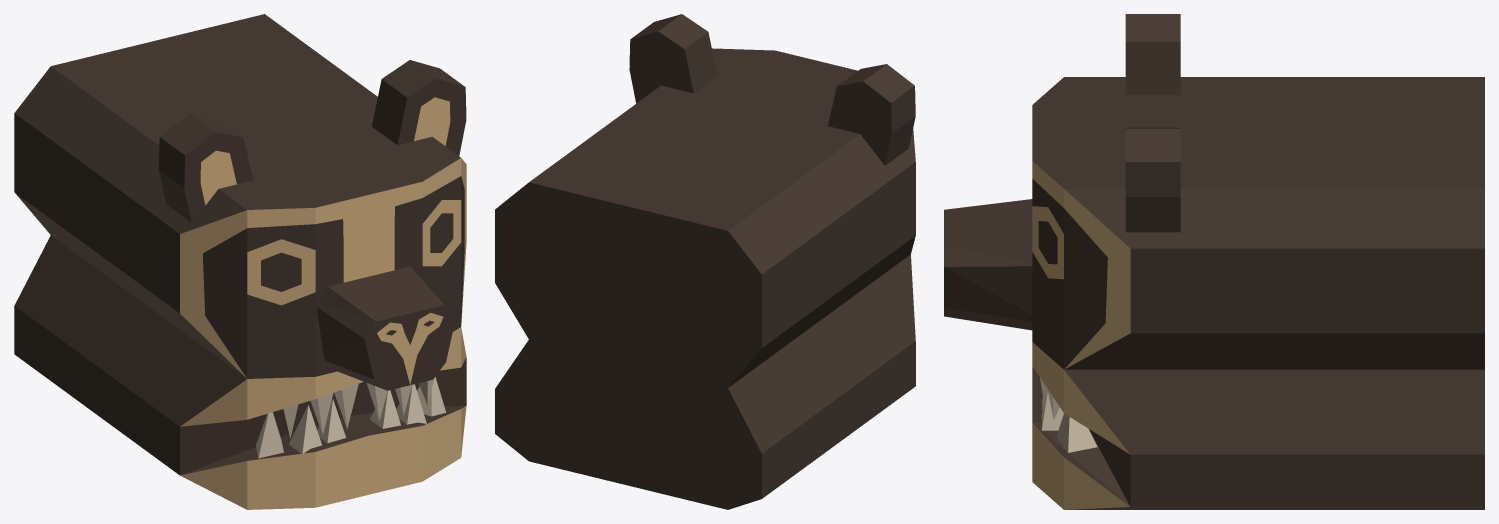
File: Enemy_Bear.FBX
3 views of the same model, side by side, from view 1: azimuth 30°, elevation 25°; view 2: azimuth 150°, elevation 25°; view 3: azimuth 270°, elevation 25° (orthographic). The views are drawn at different scales.
Visible parts, largest first — view 1: Enemy; view 2: Enemy; view 3: Enemy.
Boxes of the visible parts, left/top/right/bottom form: Enemy: left=14, top=14, right=466, bottom=509; Enemy: left=495, top=14, right=915, bottom=509; Enemy: left=944, top=14, right=1484, bottom=509.
Bounding box in the file's own units: 200 × 238 × 305.
